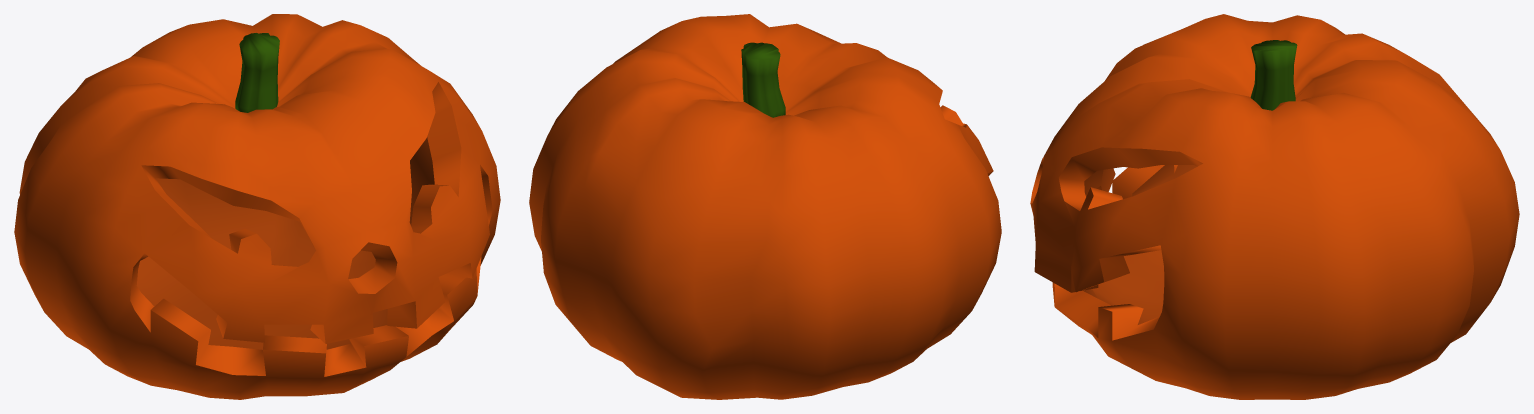
Rendered from Jack-o’-lantern_2.fbx.
3 views of the same model, side by side, from view 1: azimuth 30°, elevation 25°; view 2: azimuth 150°, elevation 25°; view 3: azimuth 270°, elevation 25° (orthographic). The views are drawn at different scales.
Visible parts, largest first — view 1: Jack-o’-lantern 2; view 2: Jack-o’-lantern 2; view 3: Jack-o’-lantern 2.
Part boxes in pixels (left/top/right/bottom): Jack-o’-lantern 2: left=14, top=14, right=500, bottom=399; Jack-o’-lantern 2: left=529, top=14, right=1001, bottom=399; Jack-o’-lantern 2: left=1030, top=14, right=1519, bottom=399.
Size of the model in its own units: 146 by 104 by 148.
